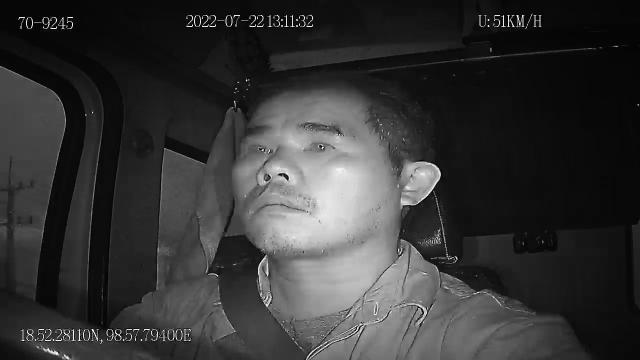SafeDriving: (296, 128, 345, 160), (242, 129, 280, 162)
Seatbelt: (216, 260, 308, 360)
